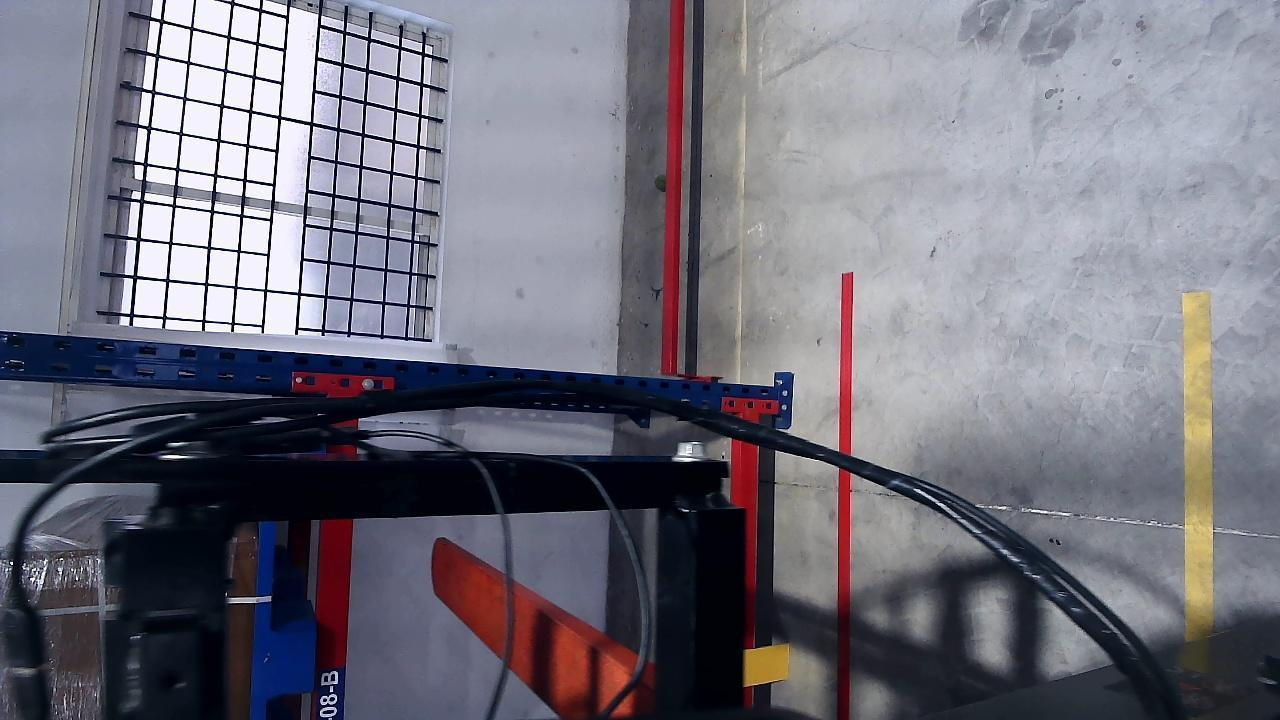red_line: (838, 271, 855, 720)
yellow_line: (1174, 287, 1221, 647)
